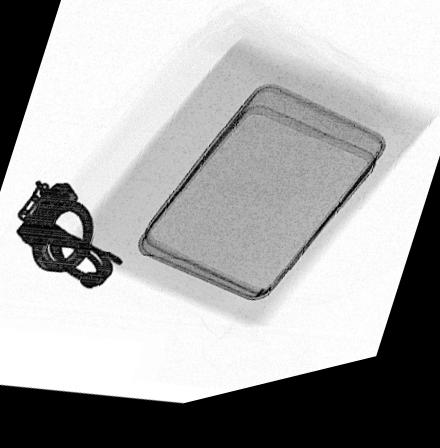HandCuffs: (12, 179, 123, 293)
